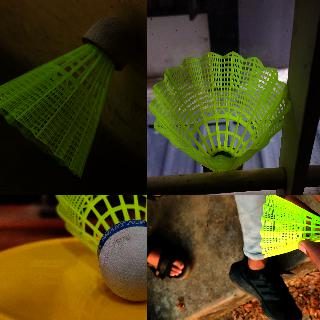shuttlecock: (0, 16, 136, 178), (150, 50, 290, 172), (54, 195, 146, 303), (259, 195, 319, 256)
